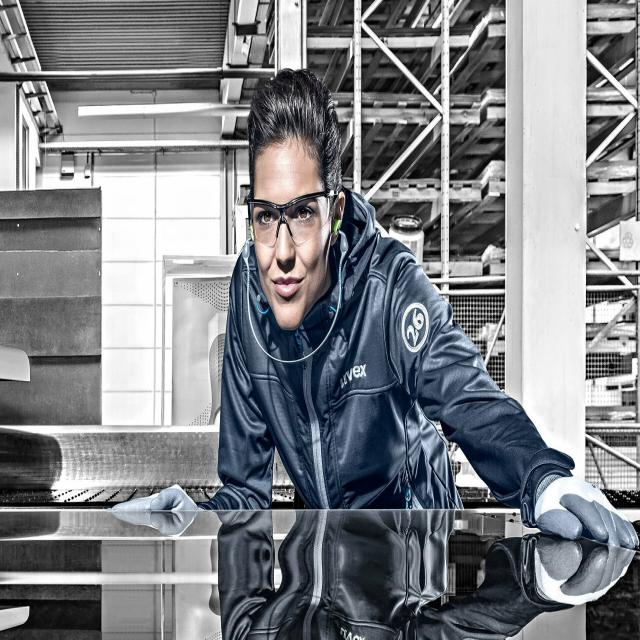Protective Glasses: (236, 189, 345, 243)
